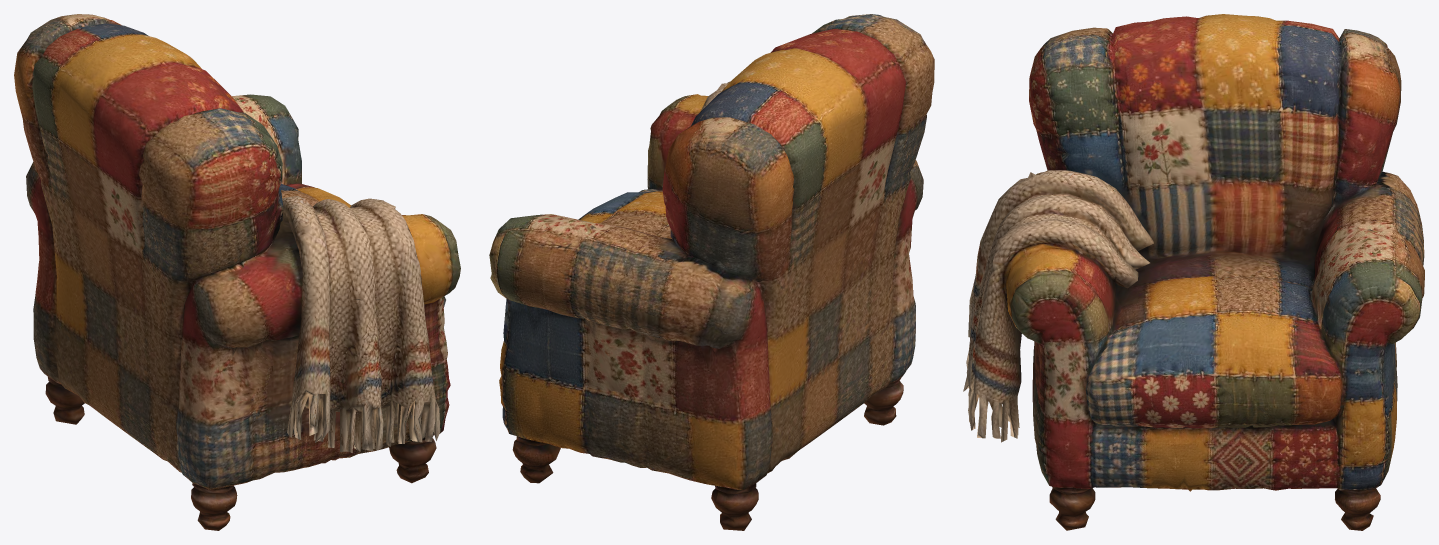
Rendered from armchair.glb.
3 views of the same model, side by side, from view 1: azimuth 30°, elevation 25°; view 2: azimuth 150°, elevation 25°; view 3: azimuth 270°, elevation 25° (orthographic).
Visible parts, largest first — view 1: tripo_node_5f941f7f-fb0f-4c97-822f-86c1b0e66330; view 2: tripo_node_5f941f7f-fb0f-4c97-822f-86c1b0e66330; view 3: tripo_node_5f941f7f-fb0f-4c97-822f-86c1b0e66330.
Part boxes in pixels (box(x1,y1,x2,y2)): tripo_node_5f941f7f-fb0f-4c97-822f-86c1b0e66330: box(14, 14, 460, 530); tripo_node_5f941f7f-fb0f-4c97-822f-86c1b0e66330: box(489, 14, 934, 530); tripo_node_5f941f7f-fb0f-4c97-822f-86c1b0e66330: box(963, 14, 1424, 530).
Bounding box in the file's own units: 0.7524 × 0.9797 × 1.
Materials: 1 (1 with a texture image).
